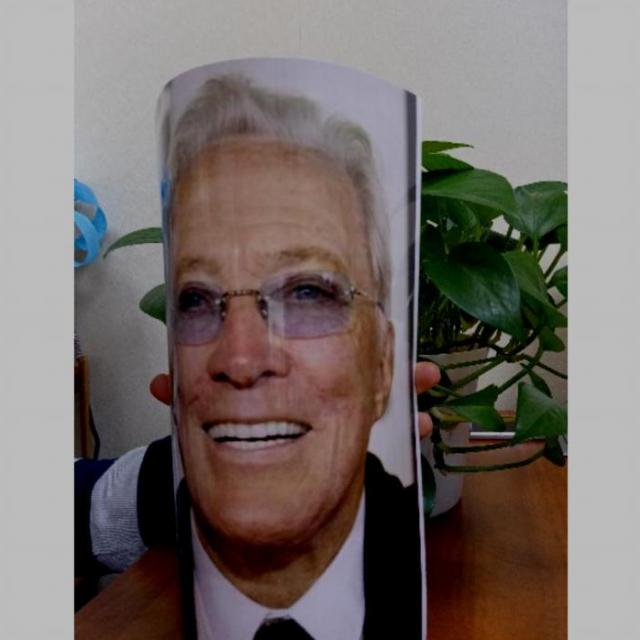photo: (133, 51, 460, 640)
